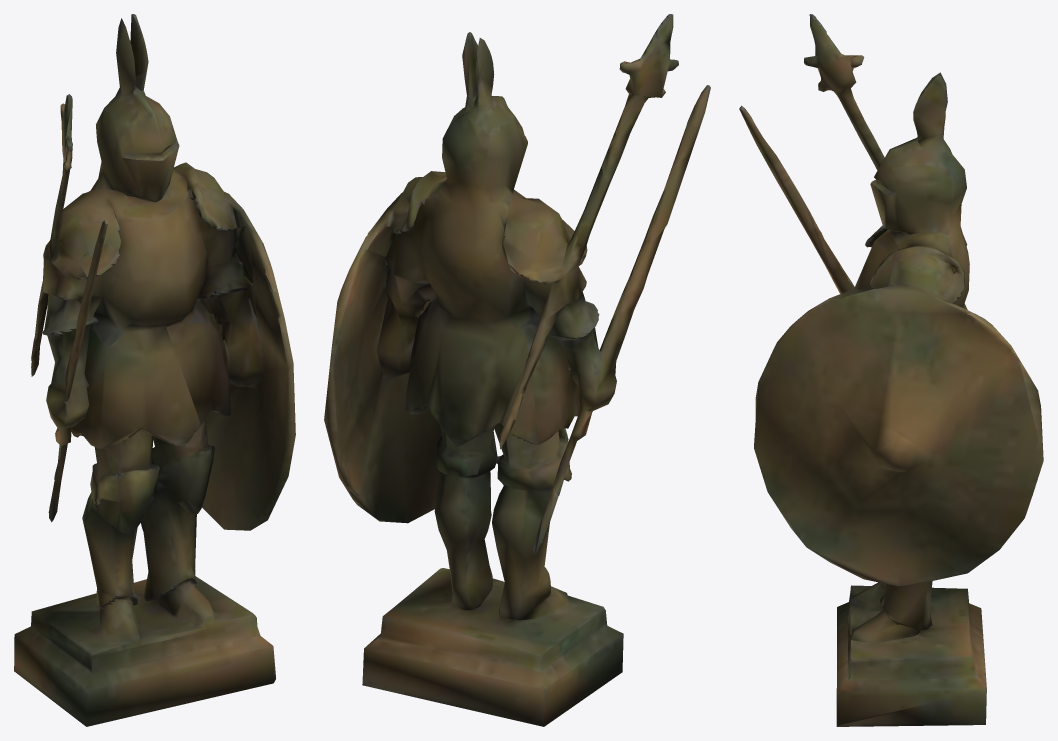
File: plain-bronze-suit-of-armour-v001.glb
3 renders of one model, left to right at view 1: azimuth 30°, elevation 25°; view 2: azimuth 150°, elevation 25°; view 3: azimuth 270°, elevation 25°, orthographic. The views are drawn at different scales.
Parts seen in each view (by area): view 1: plain-bronze-suit-of-armour; view 2: plain-bronze-suit-of-armour; view 3: plain-bronze-suit-of-armour.
Part boxes in pixels (bbox=[...]): plain-bronze-suit-of-armour: bbox=[14, 14, 295, 726]; plain-bronze-suit-of-armour: bbox=[324, 14, 710, 726]; plain-bronze-suit-of-armour: bbox=[739, 14, 1043, 726].
Size of the model in its own units: 0.8274 by 1.99 by 0.8939.
1 material, 1 textured.
